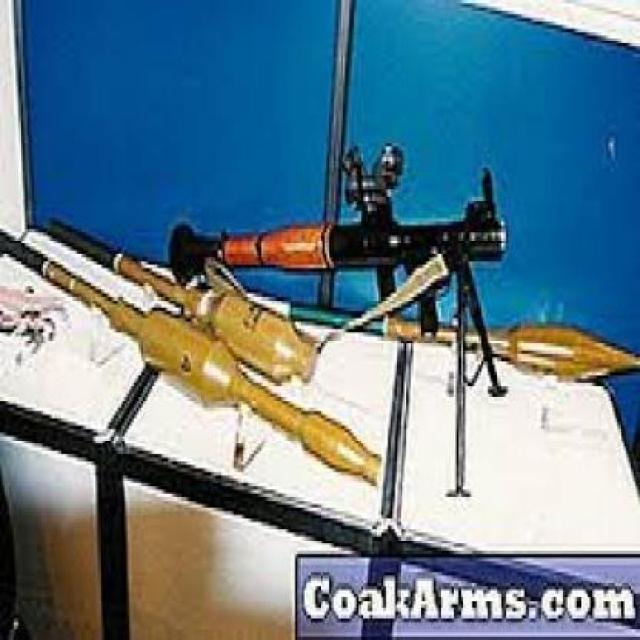weapon: (147, 121, 587, 306), (281, 287, 640, 393)
